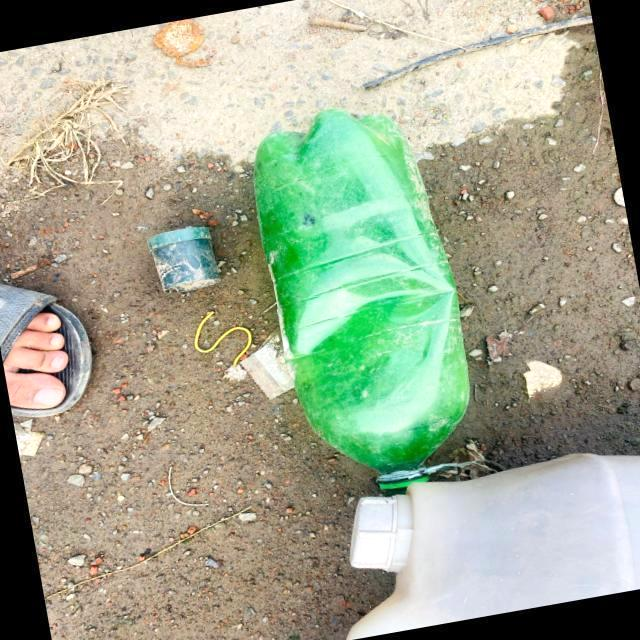bottle: (224, 83, 479, 463), (315, 440, 640, 637)
